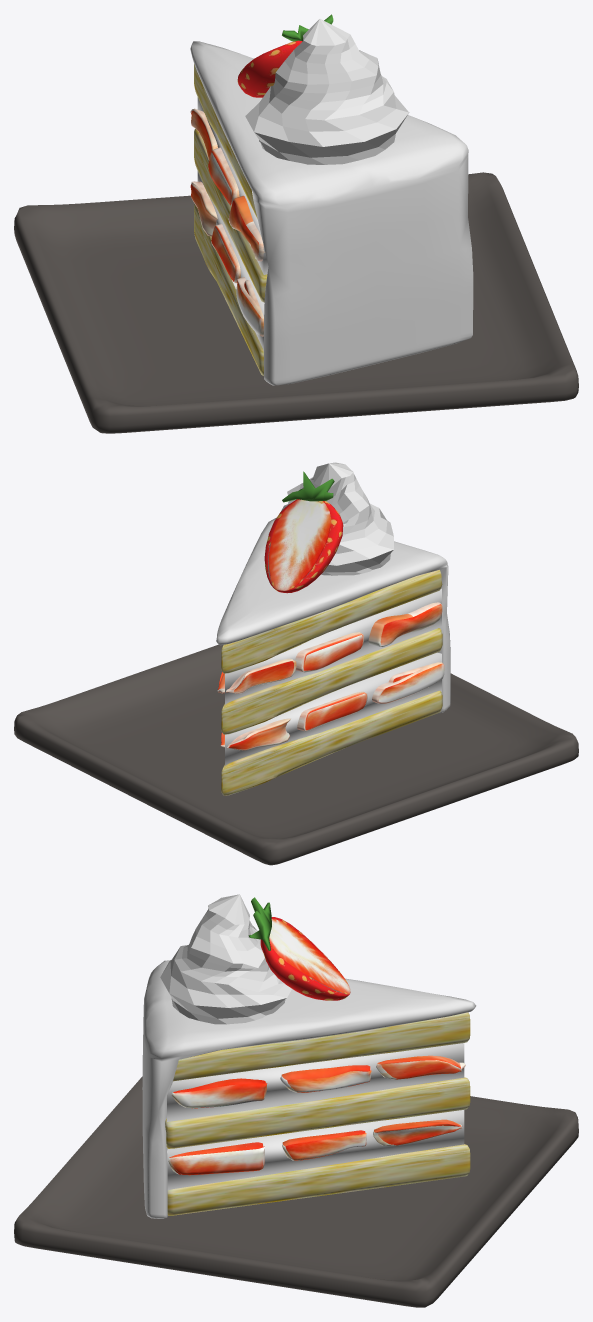
File: cake slice.fbx
3 renders of one model, top to bottom at view 1: azimuth 30°, elevation 25°; view 2: azimuth 150°, elevation 25°; view 3: azimuth 270°, elevation 25°, orthographic. The views are drawn at different scales.
Parts seen in each view (by area): view 1: Cube.007, frosting, whipped cream, cake, strawberry, filling, Cube.006, Cube.005, Cube.002, Cube.003, Cube, Cube.004; view 2: Cube.007, cake, frosting, filling, strawberry, whipped cream, Cube.006, Cube.005, Cube.002, Cube, Cube.004, Cube.003 (+1 smaller); view 3: Cube.007, cake, frosting, filling, whipped cream, strawberry, Cube, Cube.006, Cube.005, Cube.002, Cube.004, Cube.003 (+1 smaller).
Part boxes in pixels (bbox=[...]): Cube.007: bbox=[14, 172, 578, 433]; frosting: bbox=[190, 41, 473, 385]; whipped cream: bbox=[245, 19, 409, 164]; cake: bbox=[194, 64, 267, 375]; strawberry: bbox=[237, 40, 302, 97]; filling: bbox=[197, 97, 268, 353]; Cube.006: bbox=[228, 195, 265, 261]; Cube.005: bbox=[208, 147, 239, 205]; Cube.002: bbox=[211, 224, 240, 283]; Cube.003: bbox=[190, 181, 217, 236]; Cube: bbox=[236, 277, 263, 335]; Cube.004: bbox=[190, 108, 217, 159]; Cube.007: bbox=[14, 644, 578, 865]; cake: bbox=[221, 570, 442, 795]; frosting: bbox=[216, 517, 450, 713]; filling: bbox=[225, 588, 441, 765]; strawberry: bbox=[264, 499, 343, 593]; whipped cream: bbox=[268, 462, 393, 575]; Cube.006: bbox=[368, 602, 442, 647]; Cube.005: bbox=[295, 632, 364, 672]; Cube.002: bbox=[297, 691, 367, 731]; Cube: bbox=[372, 664, 443, 703]; Cube.004: bbox=[217, 658, 296, 693]; Cube.003: bbox=[220, 718, 290, 750]; Cube.007: bbox=[14, 1076, 578, 1307]; cake: bbox=[165, 1012, 470, 1215]; frosting: bbox=[142, 960, 476, 1218]; filling: bbox=[167, 1043, 464, 1190]; whipped cream: bbox=[160, 894, 291, 1024]; strawberry: bbox=[260, 917, 350, 1000]; Cube: bbox=[168, 1142, 264, 1175]; Cube.006: bbox=[171, 1078, 267, 1108]; Cube.005: bbox=[280, 1065, 371, 1092]; Cube.002: bbox=[282, 1130, 366, 1160]; Cube.004: bbox=[376, 1055, 465, 1079]; Cube.003: bbox=[373, 1119, 462, 1145].
Bounding box in the file's own units: 529 × 529 × 303.
